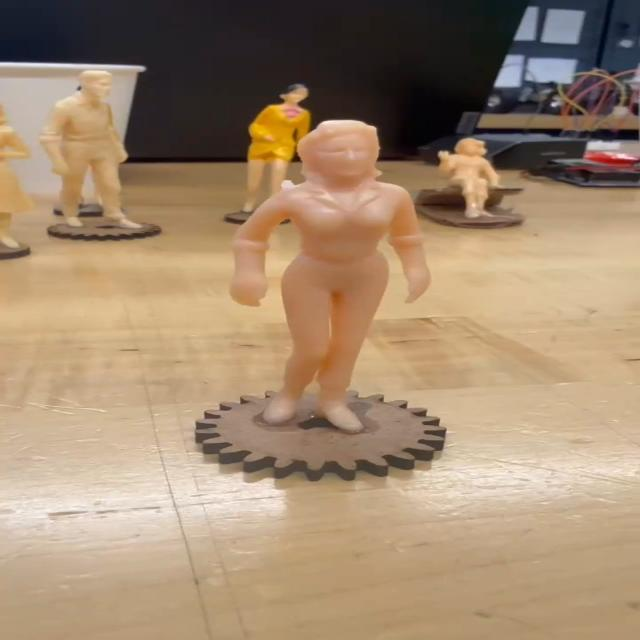Unauthorized: (231, 114, 431, 439)
